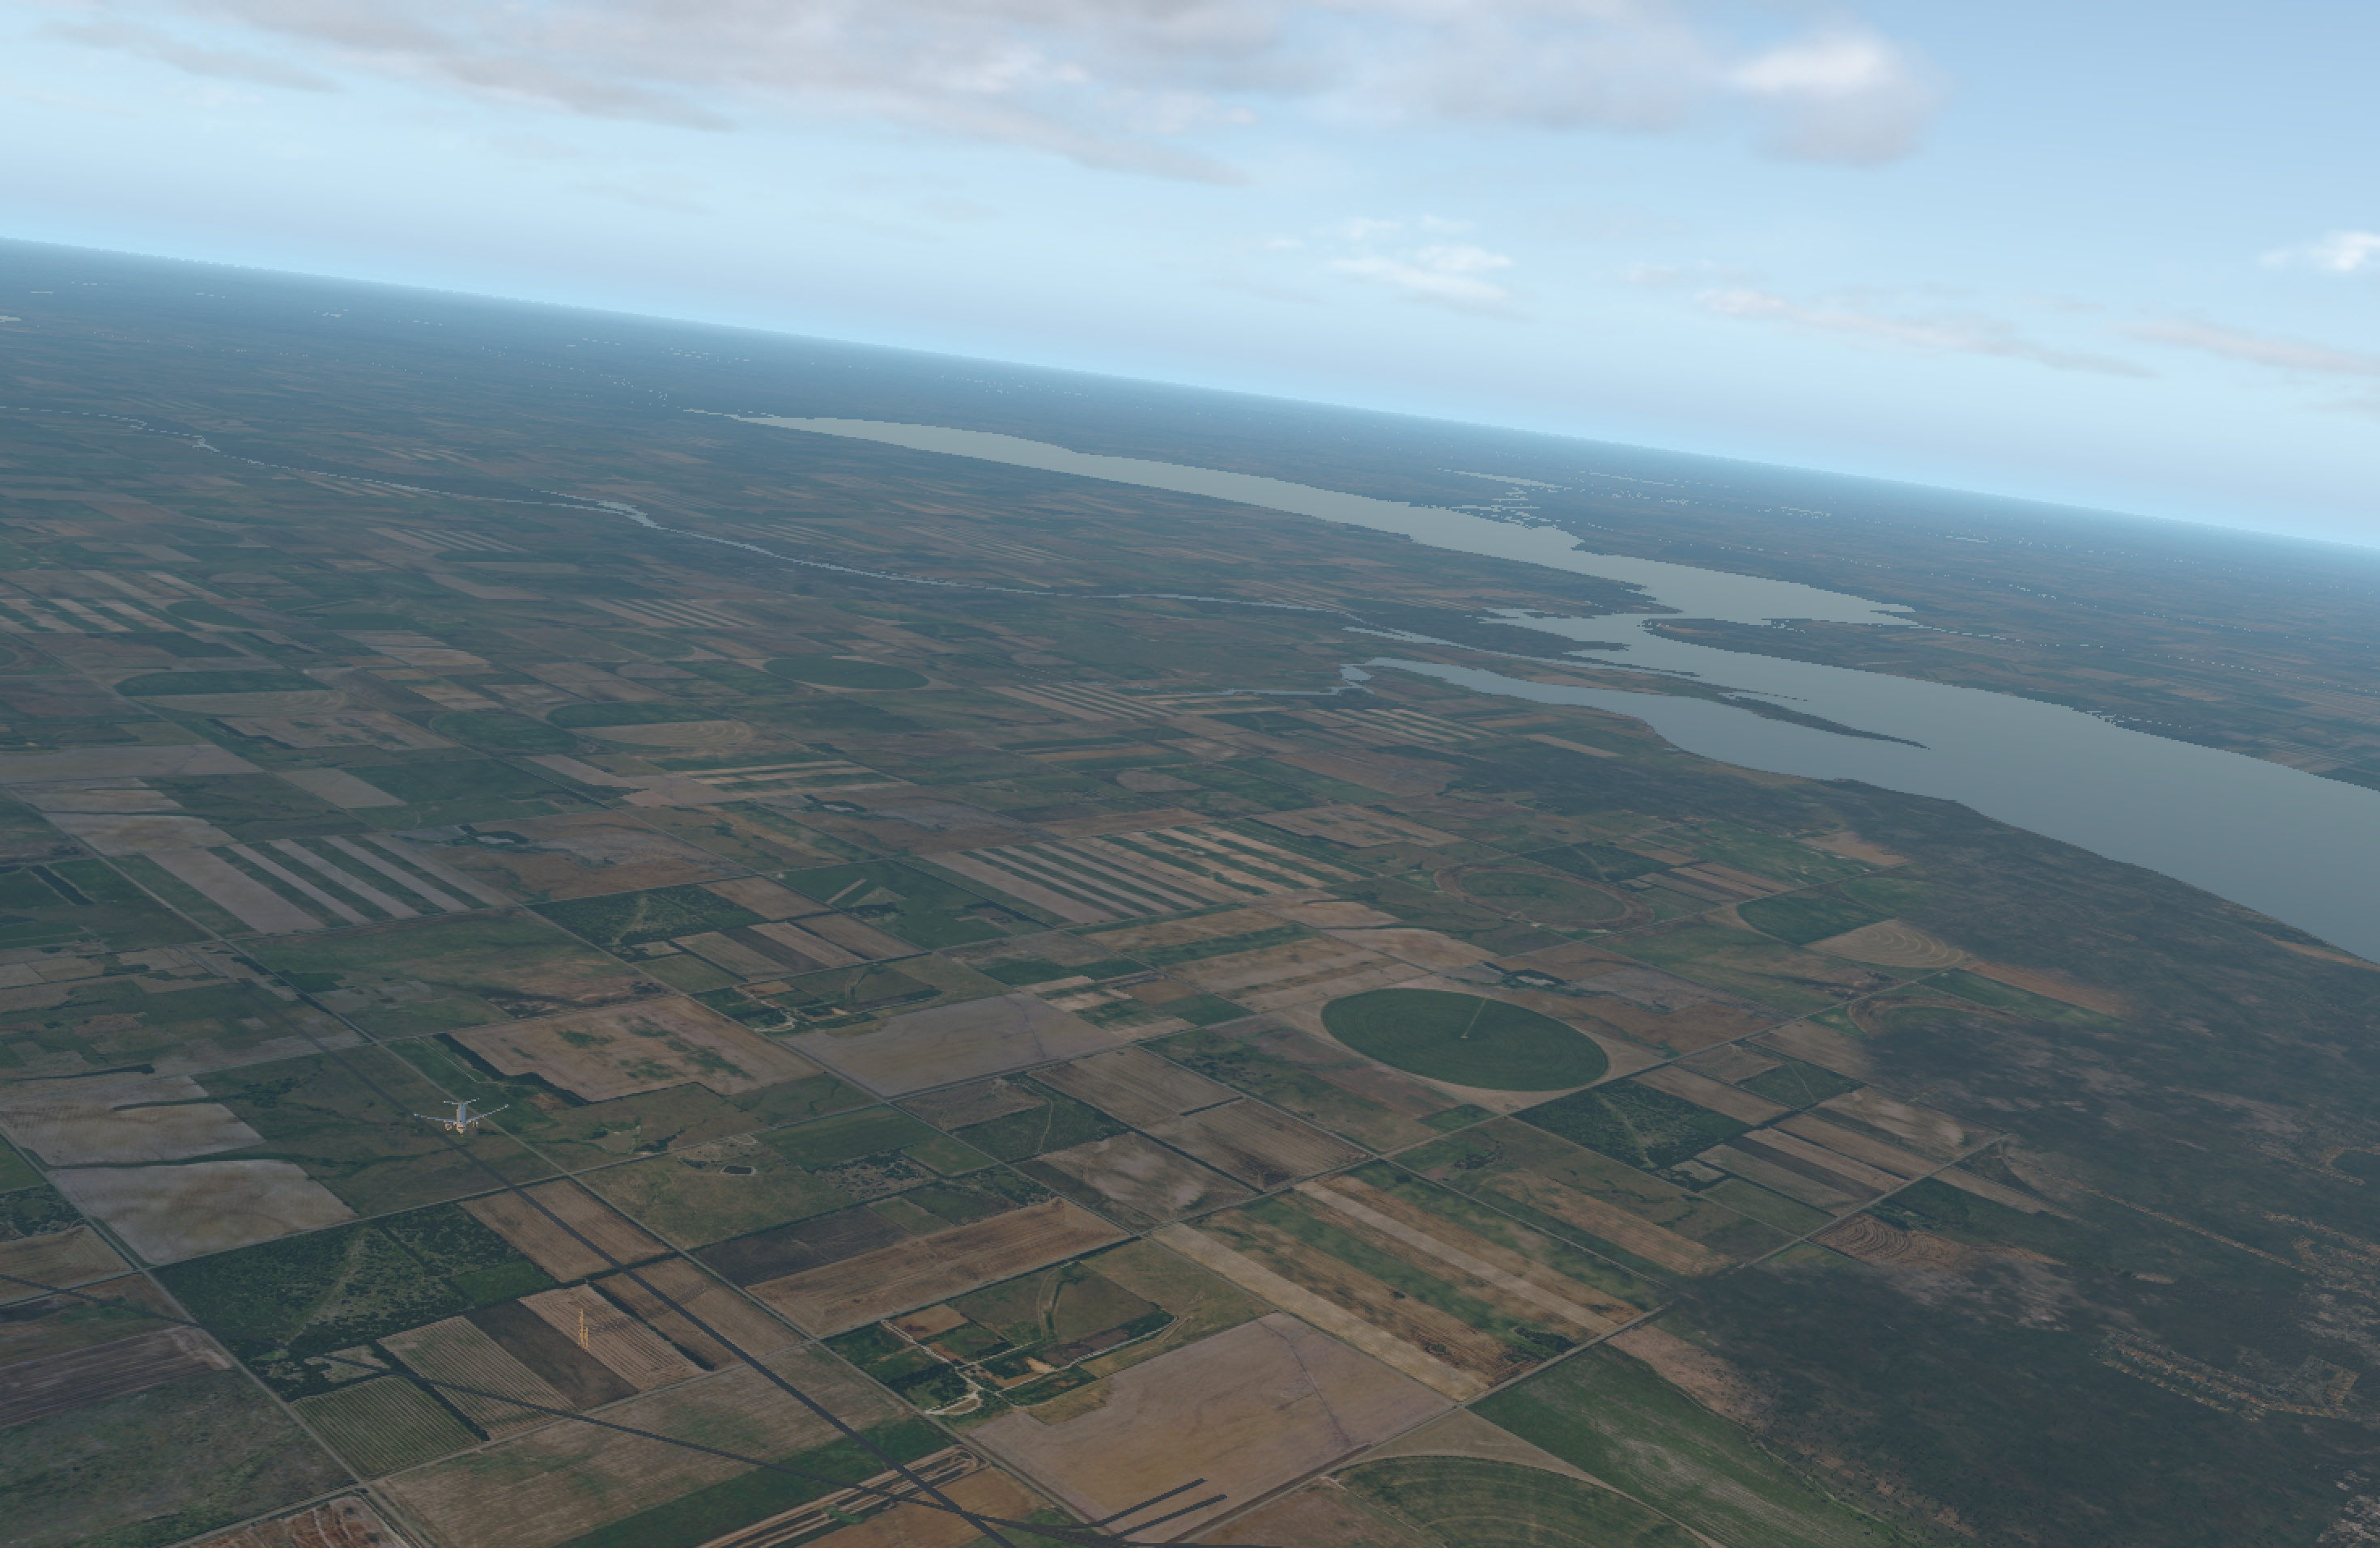aircraft: (415, 1102, 510, 1138)
